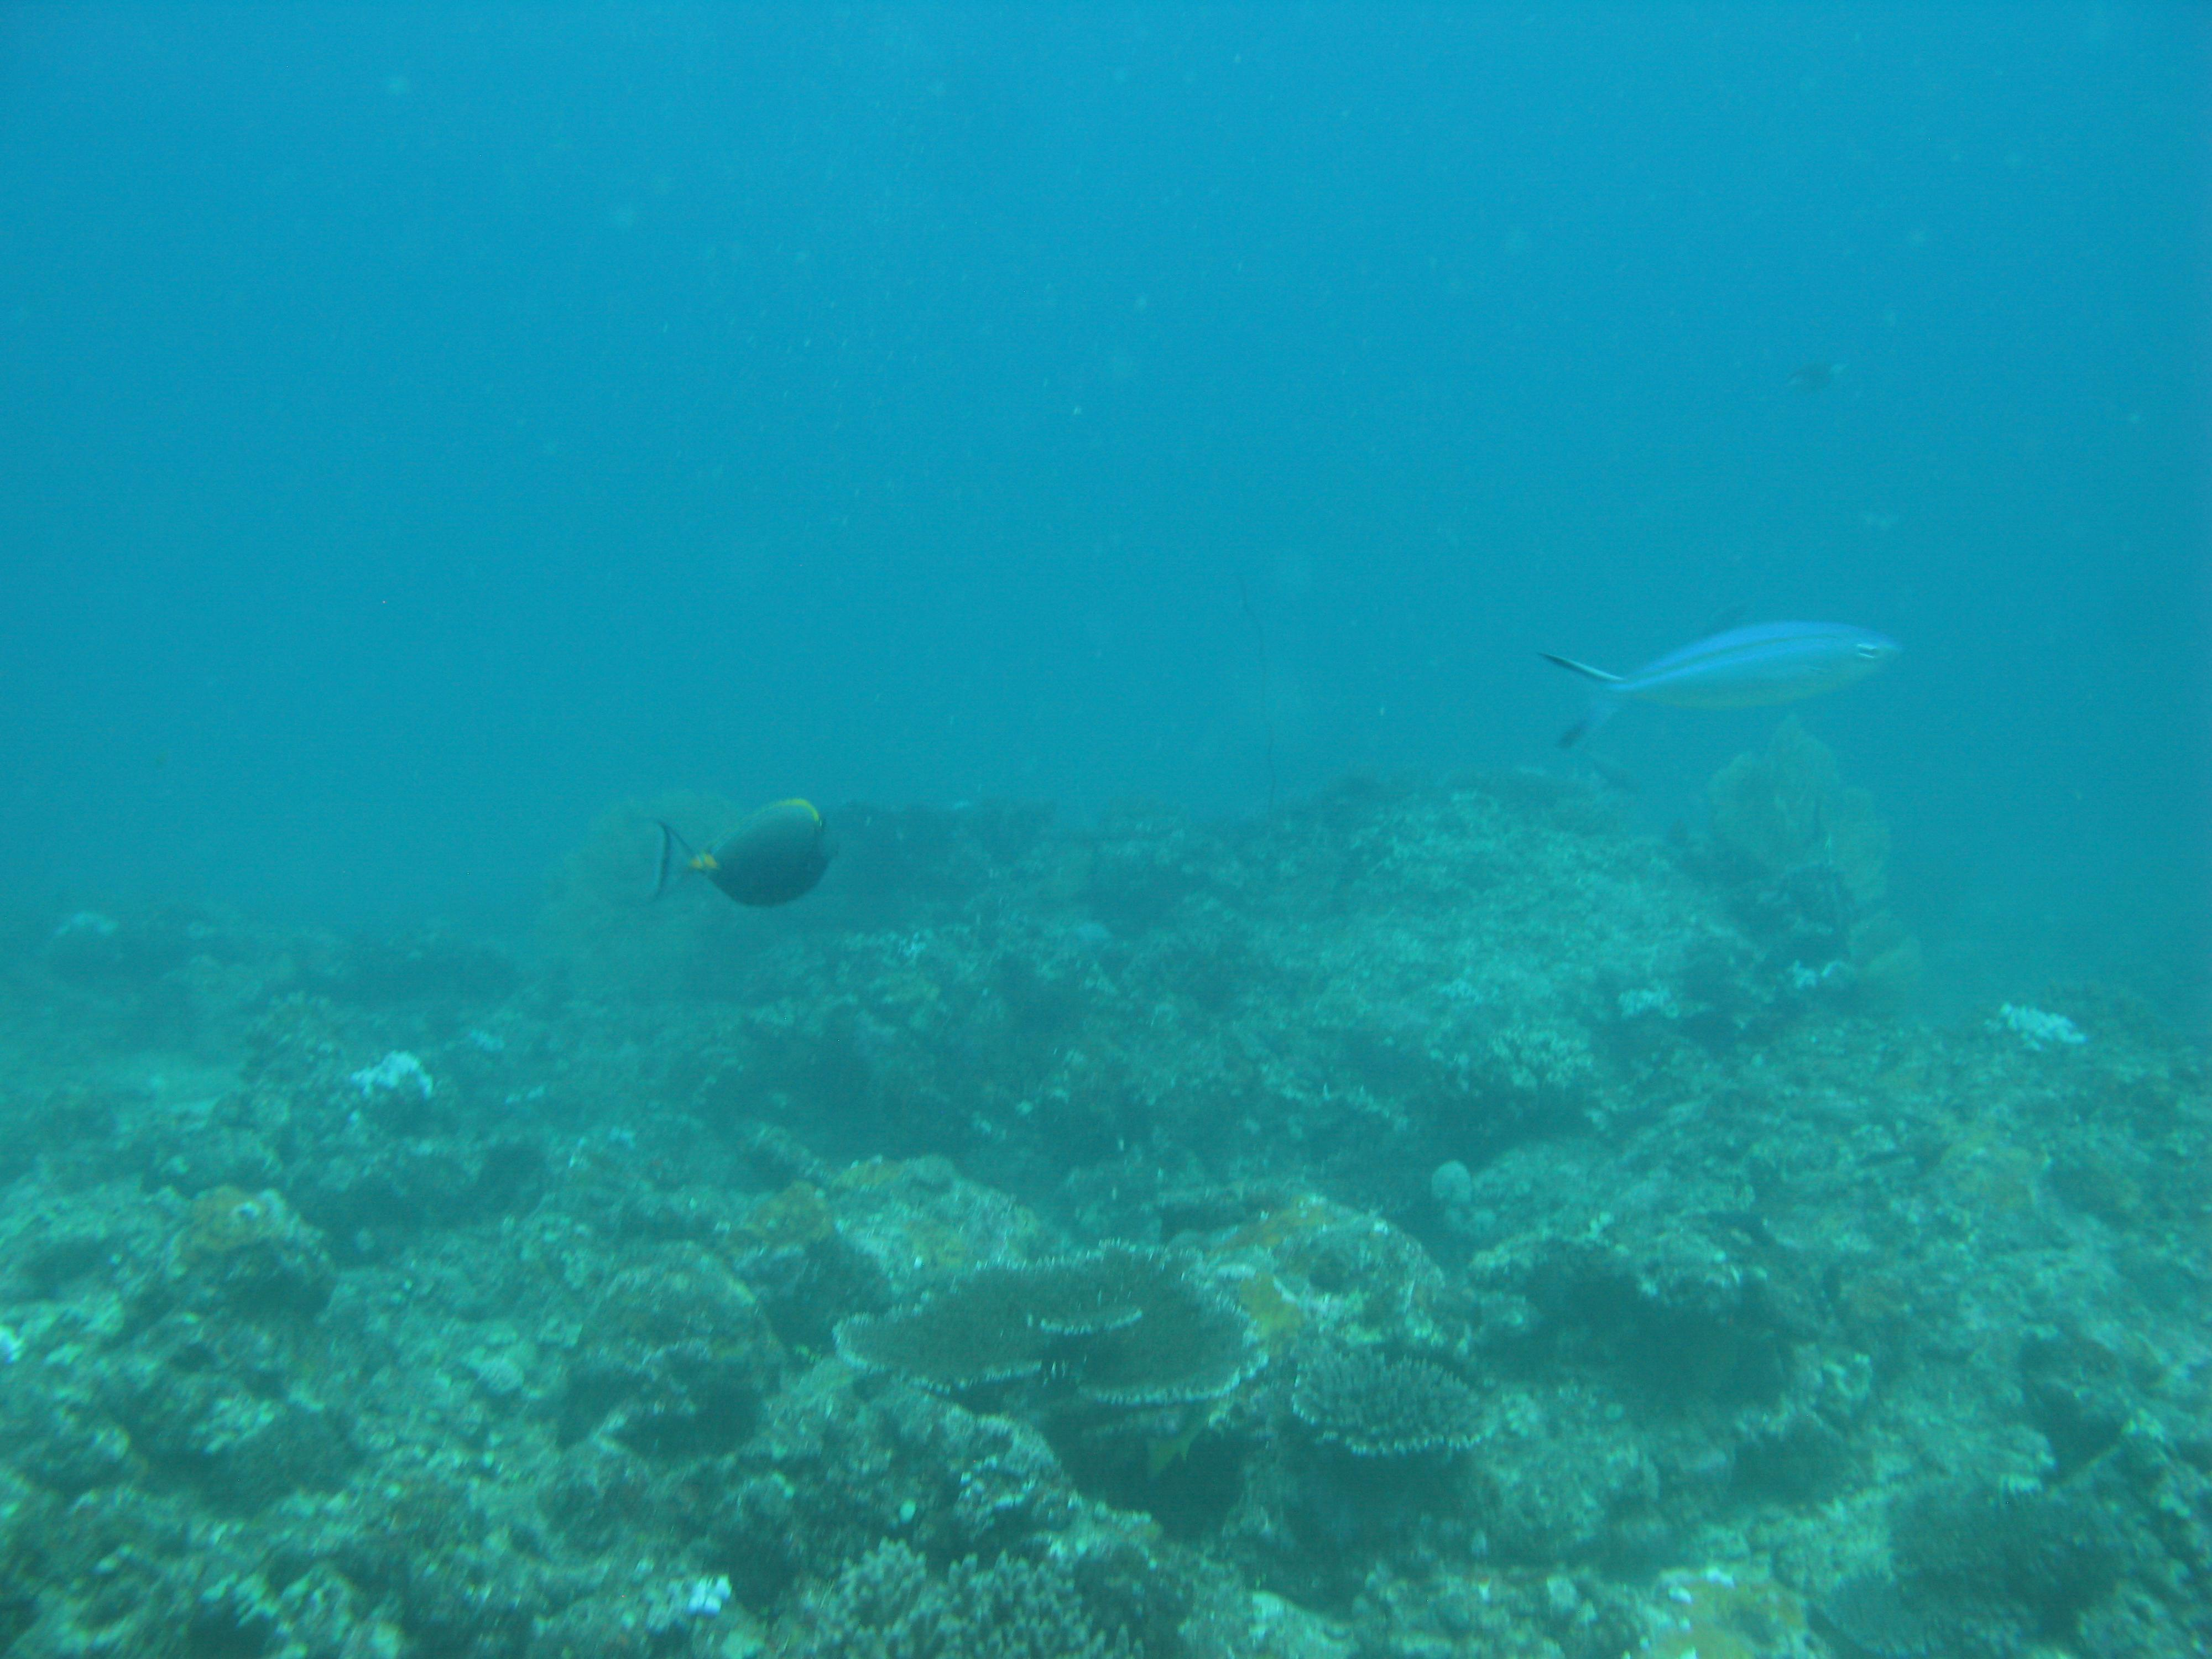Fish: (526, 753, 946, 967)
